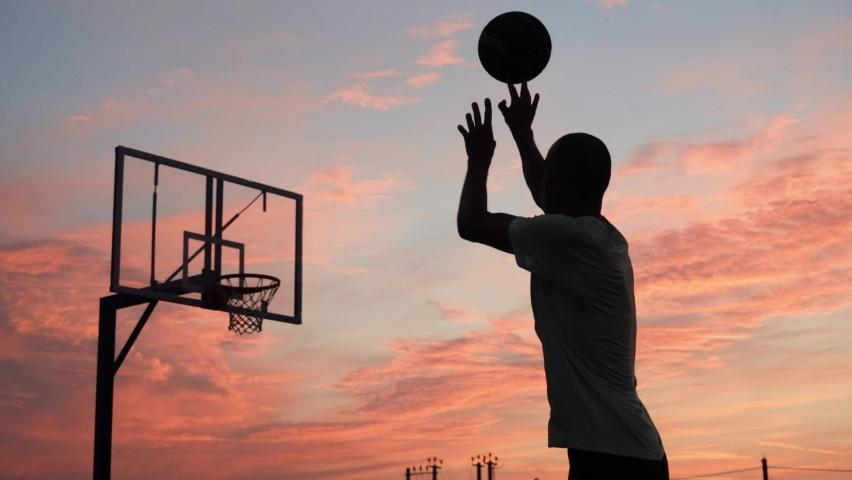basketball: (479, 12, 553, 83)
